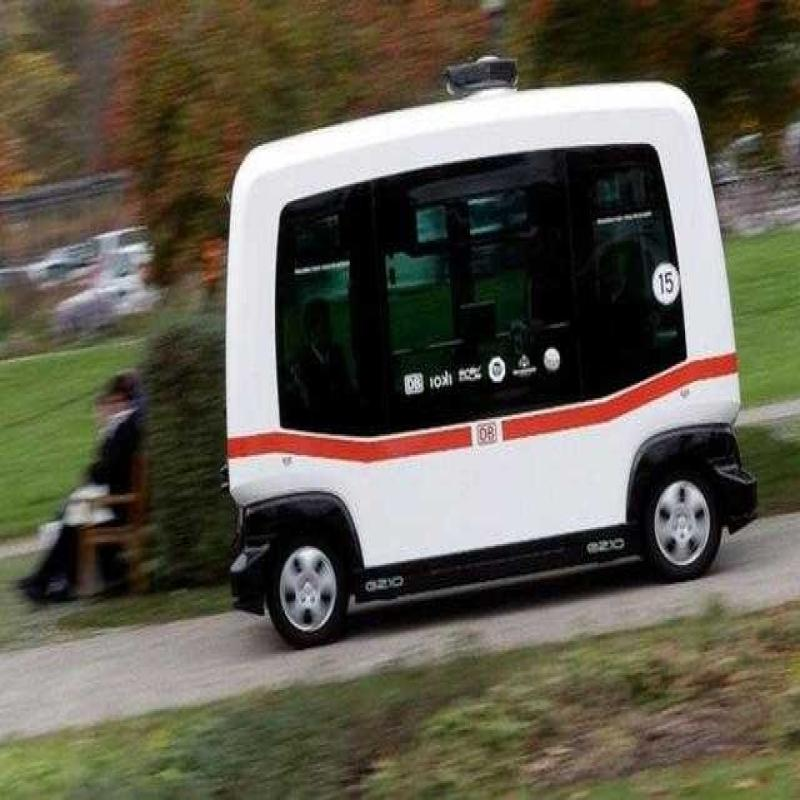bus: (207, 42, 775, 661)
